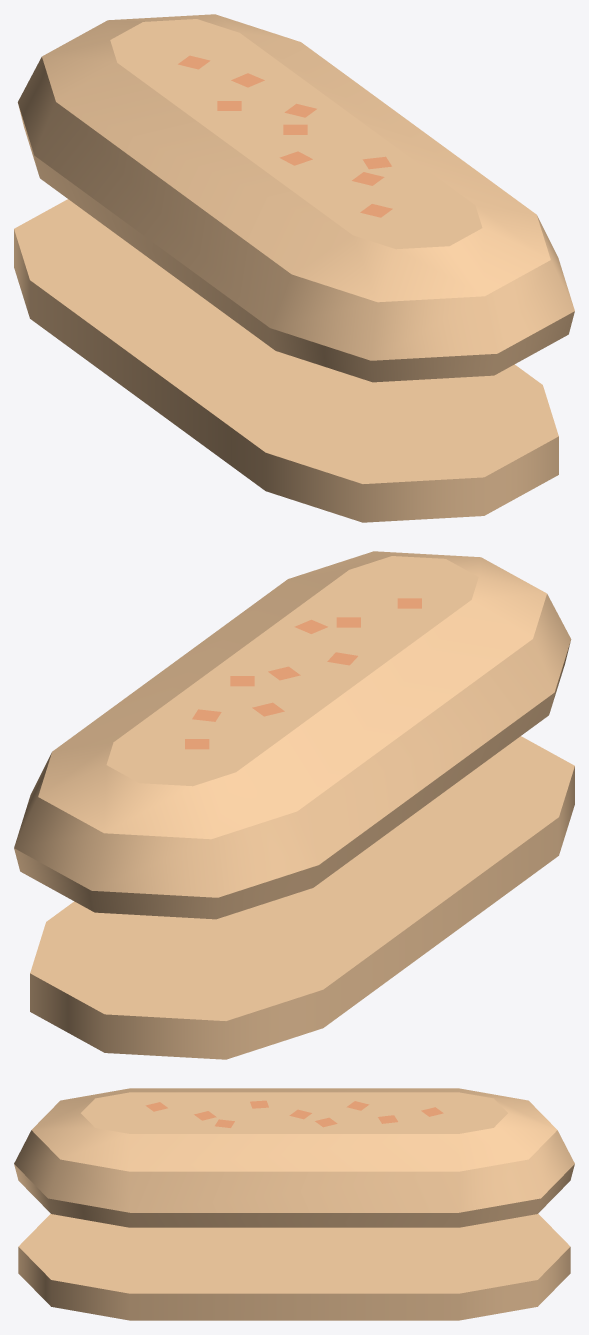
3 renders of one model, top to bottom at view 1: azimuth 30°, elevation 25°; view 2: azimuth 150°, elevation 25°; view 3: azimuth 270°, elevation 25°, orthographic. The views are drawn at different scales.
Parts seen in each view (by area): view 1: sub; view 2: sub; view 3: sub.
Part boxes in pixels (x1,y1,x2,y2): sub: [14, 14, 574, 522]; sub: [14, 551, 574, 1059]; sub: [14, 1088, 574, 1320].
Bounding box in the file's own units: 0.2775 × 0.2125 × 0.6602.
